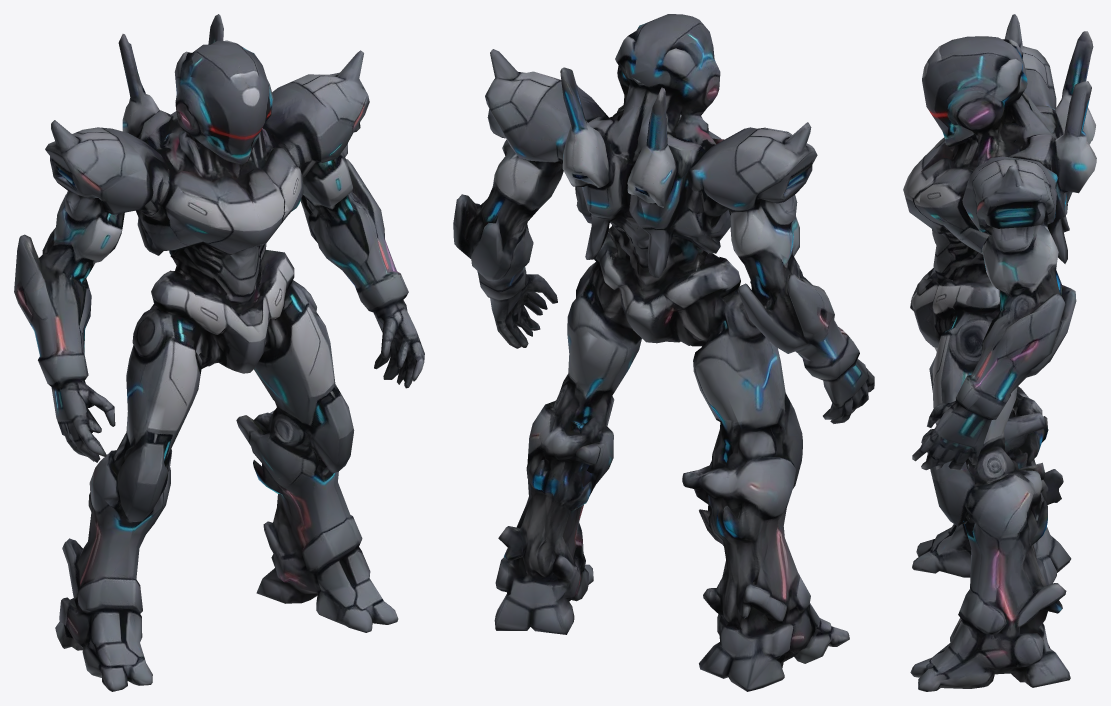
Rendered from Sentinel_rig_opt.glb.
3 renders of one model, left to right at view 1: azimuth 30°, elevation 25°; view 2: azimuth 150°, elevation 25°; view 3: azimuth 270°, elevation 25°, orthographic. The views are drawn at different scales.
Parts seen in each view (by area): view 1: chest_geo, pelvis_geo, head_geo, thigh.R_geo, forearm.L_geo, forearm.R_geo, thigh.L_geo, foot.R_geo, foot.L_geo, upperarm.L_geo, shin.L_geo, shin.R_geo (+1 smaller); view 2: chest_geo, pelvis_geo, thigh.L_geo, head_geo, thigh.R_geo, foot.L_geo, forearm.R_geo, forearm.L_geo, foot.R_geo, upperarm.L_geo, shin.L_geo, shin.R_geo (+1 smaller); view 3: chest_geo, head_geo, forearm.R_geo, foot.R_geo, pelvis_geo, thigh.R_geo, upperarm.R_geo, shin.R_geo, foot.L_geo, thigh.L_geo, shin.L_geo.
Boxes of the visible parts, <box> form: chest_geo: <box>45,35,369,251</box>; pelvis_geo: <box>131,213,328,388</box>; head_geo: <box>118,14,273,164</box>; thigh.R_geo: <box>236,327,354,493</box>; forearm.L_geo: <box>14,234,115,462</box>; forearm.R_geo: <box>300,160,424,388</box>; thigh.L_geo: <box>88,346,202,525</box>; foot.R_geo: <box>256,494,398,632</box>; foot.L_geo: <box>55,549,152,691</box>; upperarm.L_geo: <box>42,177,124,375</box>; shin.L_geo: <box>62,504,165,589</box>; shin.R_geo: <box>259,455,349,548</box>; chest_geo: <box>485,49,817,251</box>; pelvis_geo: <box>567,215,773,390</box>; thigh.L_geo: <box>682,339,802,585</box>; head_geo: <box>560,14,720,182</box>; thigh.R_geo: <box>526,304,641,510</box>; foot.L_geo: <box>699,540,849,691</box>; forearm.R_geo: <box>453,159,568,385</box>; forearm.L_geo: <box>739,254,874,423</box>; foot.R_geo: <box>494,509,593,634</box>; upperarm.L_geo: <box>730,180,807,328</box>; shin.L_geo: <box>699,508,798,628</box>; shin.R_geo: <box>516,460,608,547</box>; chest_geo: <box>903,14,1096,249</box>; head_geo: <box>922,36,1092,146</box>; forearm.R_geo: <box>912,232,1076,475</box>; foot.R_geo: <box>910,583,1070,691</box>; pelvis_geo: <box>910,212,1069,389</box>; thigh.R_geo: <box>930,368,1047,566</box>; upperarm.R_geo: <box>982,217,1076,348</box>; shin.R_geo: <box>966,502,1047,614</box>; foot.L_geo: <box>912,461,1071,585</box>; thigh.L_geo: <box>929,347,1048,464</box>; shin.L_geo: <box>1005,435,1063,504</box>.
Bounding box in the file's own units: 1.27 × 2 × 0.6054.
Materials: 1 (1 with a texture image).
